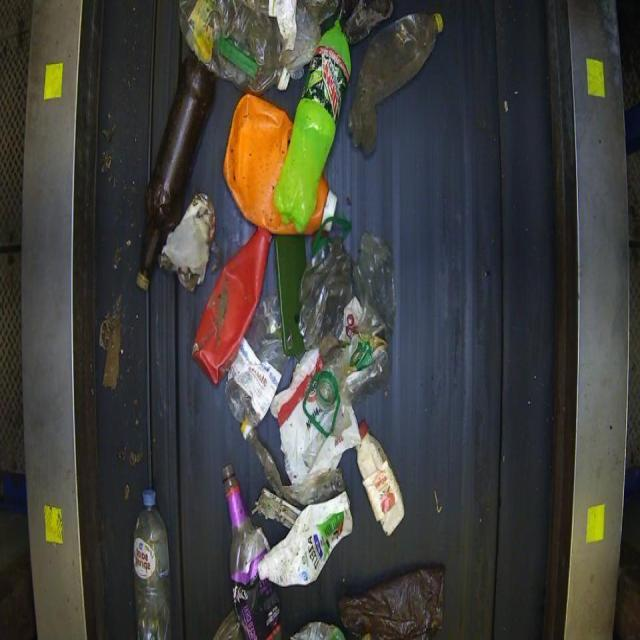bottles: (272, 9, 353, 230), (220, 463, 283, 639), (131, 488, 171, 639)
other-trash: (136, 0, 447, 638)
trashbin: (336, 561, 446, 639)
